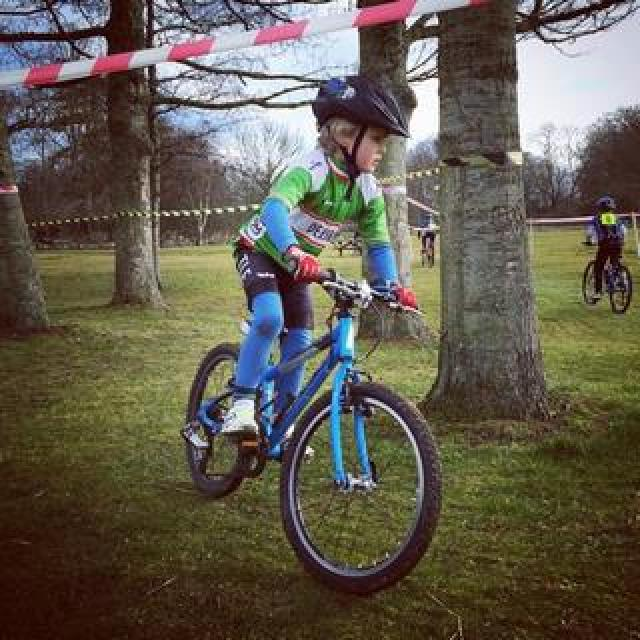MC-Bike: (222, 60, 426, 472), (590, 196, 628, 296)
Person: (178, 270, 438, 594), (582, 248, 634, 314), (420, 228, 436, 268)
